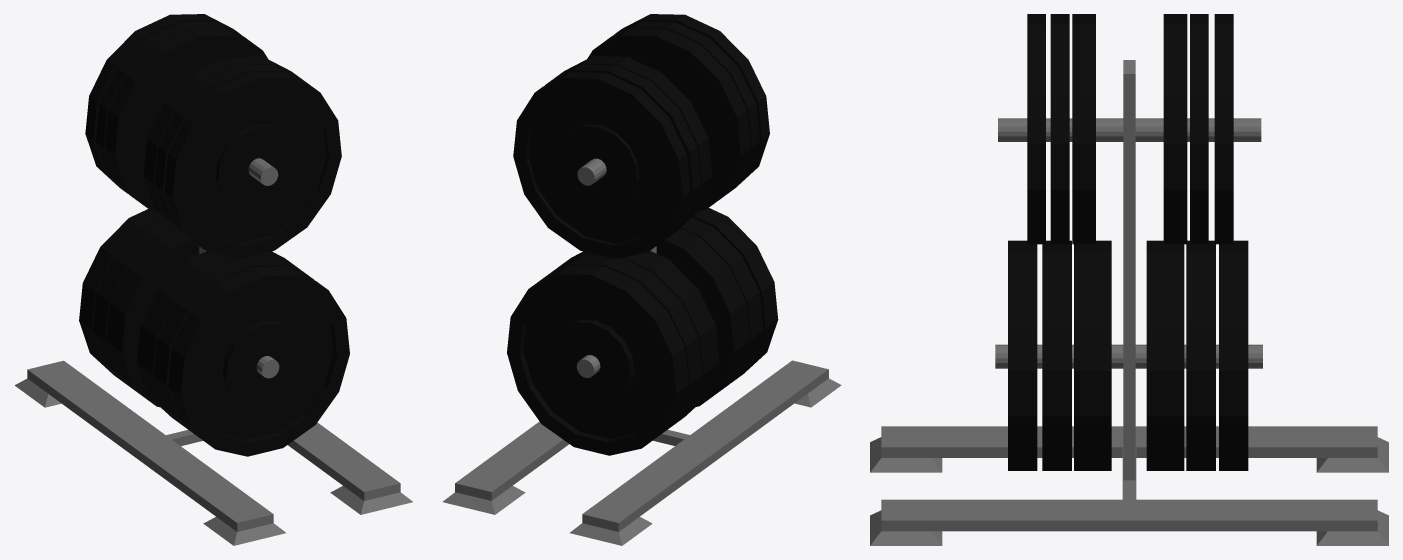
File: BlackPlateRack.fbx
3 views of the same model, side by side, from view 1: azimuth 30°, elevation 25°; view 2: azimuth 150°, elevation 25°; view 3: azimuth 270°, elevation 25° (orthographic). The views are drawn at different scales.
Parts seen in each view (by area): view 1: BlackPlateRack; view 2: BlackPlateRack; view 3: BlackPlateRack.
Boxes of the visible parts, box(x1,y1,x2,y2) form: BlackPlateRack: box(15, 14, 412, 545); BlackPlateRack: box(443, 14, 841, 545); BlackPlateRack: box(870, 14, 1388, 545).
Bounding box in the file's own units: 47.29 × 99.71 × 99.92.
